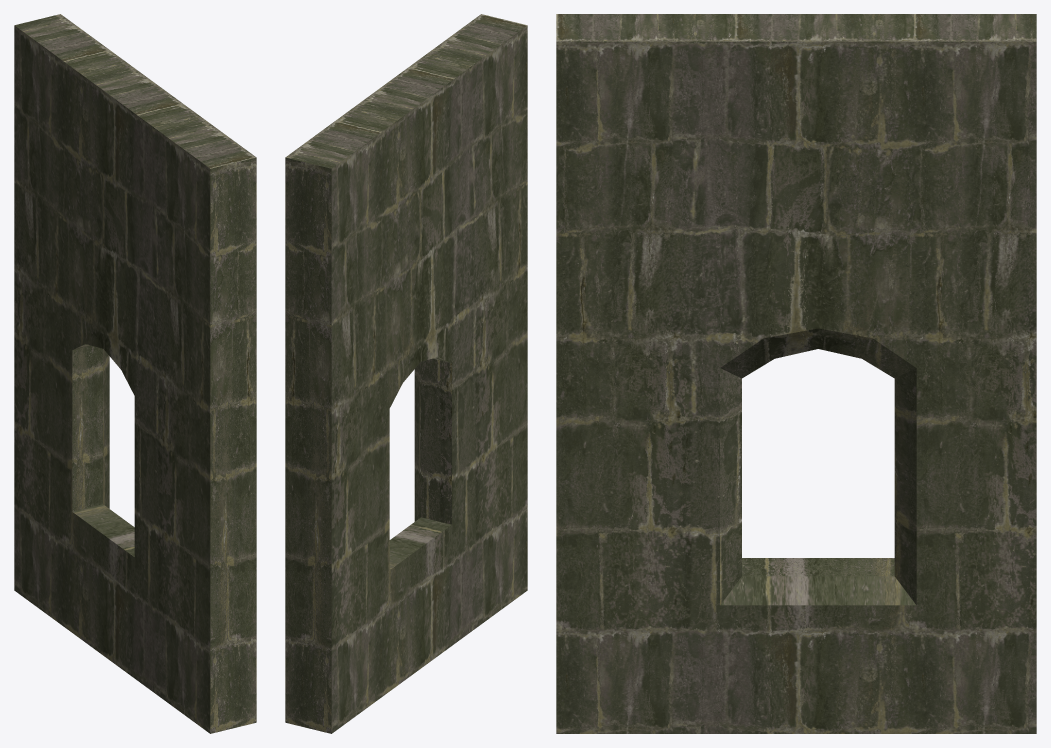
Rendered from VerticalHalfWall_L_Window.fbx.
The picture shows the model from 3 angles, left to right: view 1: azimuth 30°, elevation 25°; view 2: azimuth 150°, elevation 25°; view 3: azimuth 270°, elevation 25°; orthographic projection. The views are drawn at different scales.
Visible parts, largest first — view 1: VerticalHalfWall_L_Window; view 2: VerticalHalfWall_L_Window; view 3: VerticalHalfWall_L_Window.
Boxes of the visible parts, <box> form: VerticalHalfWall_L_Window: <box>14,14,256,733</box>; VerticalHalfWall_L_Window: <box>285,14,527,733</box>; VerticalHalfWall_L_Window: <box>556,14,1036,733</box>.
Size of the model in its own units: 51 by 595 by 374.
